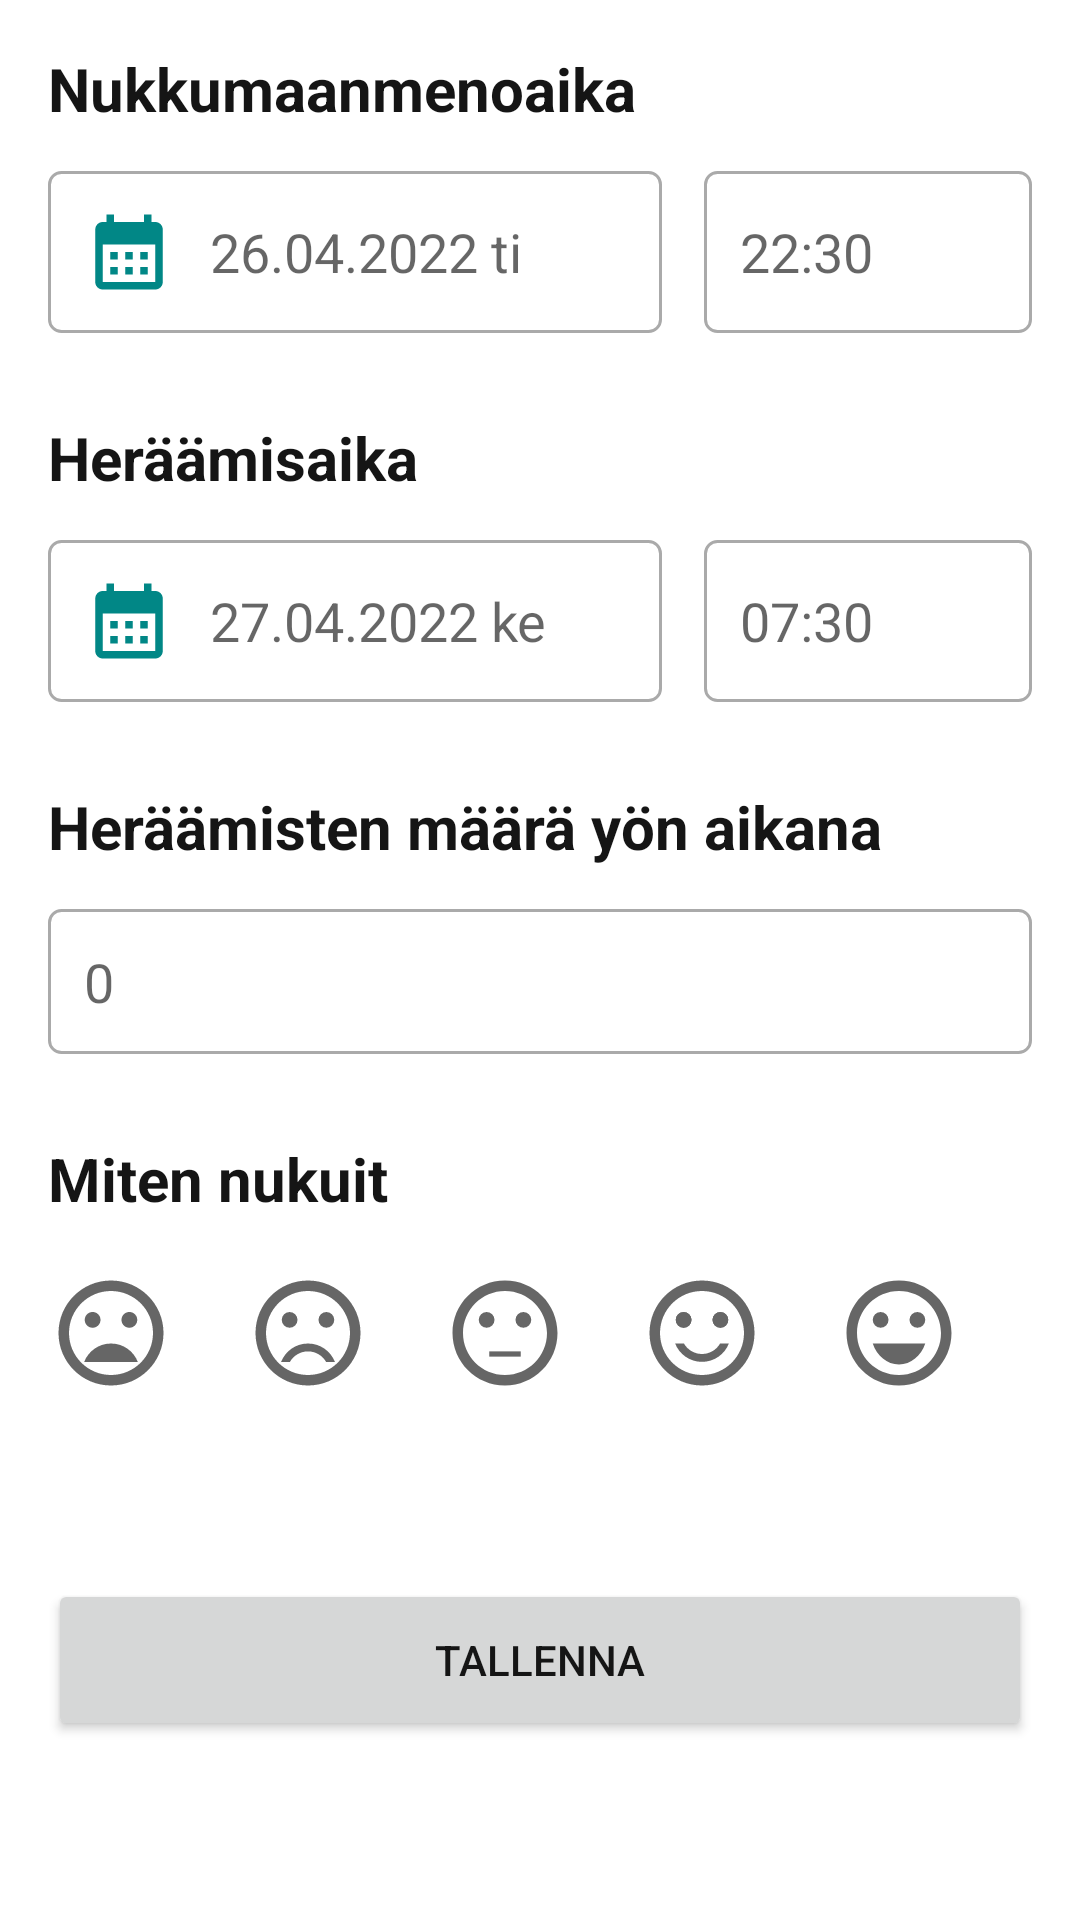

Named icons in this screenshot (1080px x 1920px) and their centers, point (x, y):
custom radio dissatisfied: point (308, 1333)
custom radio neutral: point (505, 1333)
custom radio satisfied: point (702, 1333)
custom radio very dissatisfied: point (111, 1333)
custom radio very satisfied: point (899, 1333)
